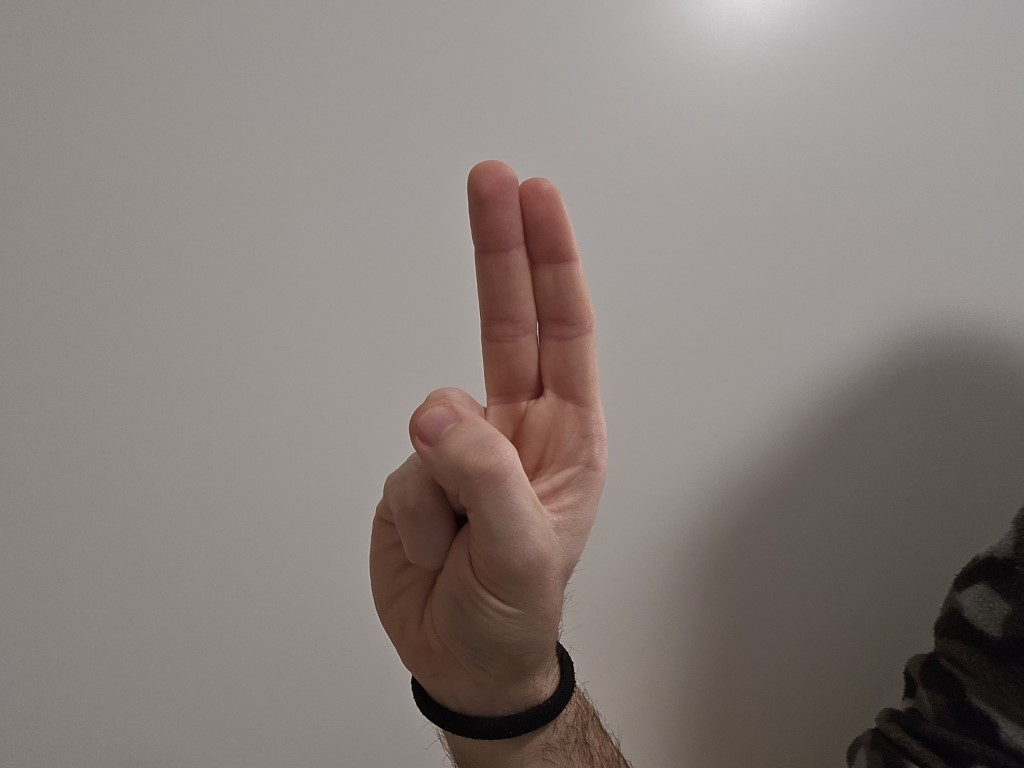u: (344, 148, 623, 663)
